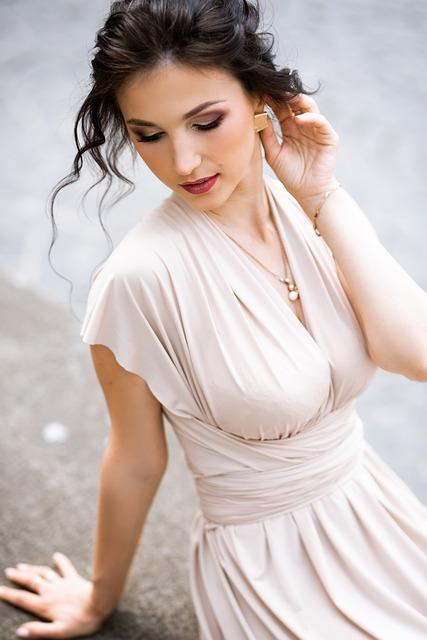Non_Gorille: (28, 4, 427, 606)
